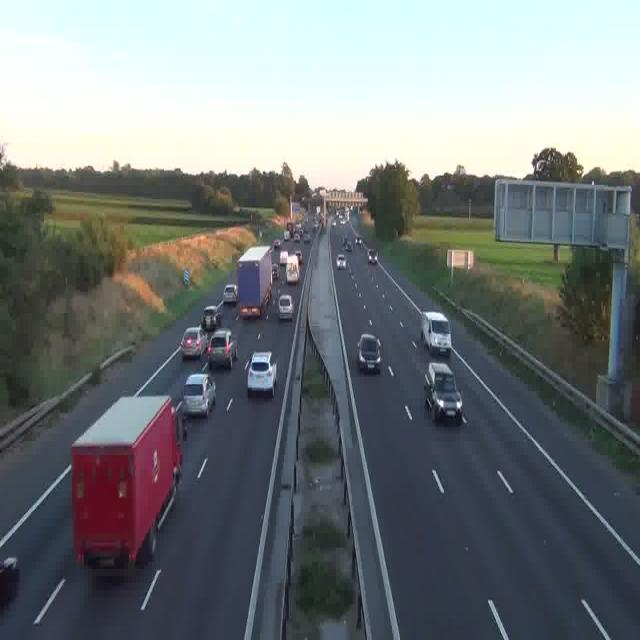car: (423, 363, 463, 425), (182, 371, 216, 416), (421, 311, 452, 358), (247, 352, 276, 396), (207, 330, 237, 370), (0, 555, 20, 606), (356, 334, 381, 372), (181, 330, 205, 359), (202, 306, 220, 333), (278, 294, 294, 318), (222, 284, 238, 305), (336, 254, 346, 268), (368, 250, 376, 264), (296, 250, 304, 263), (354, 236, 361, 246)
truck: (69, 394, 183, 572), (236, 246, 272, 316), (284, 258, 299, 284), (278, 247, 289, 266)
